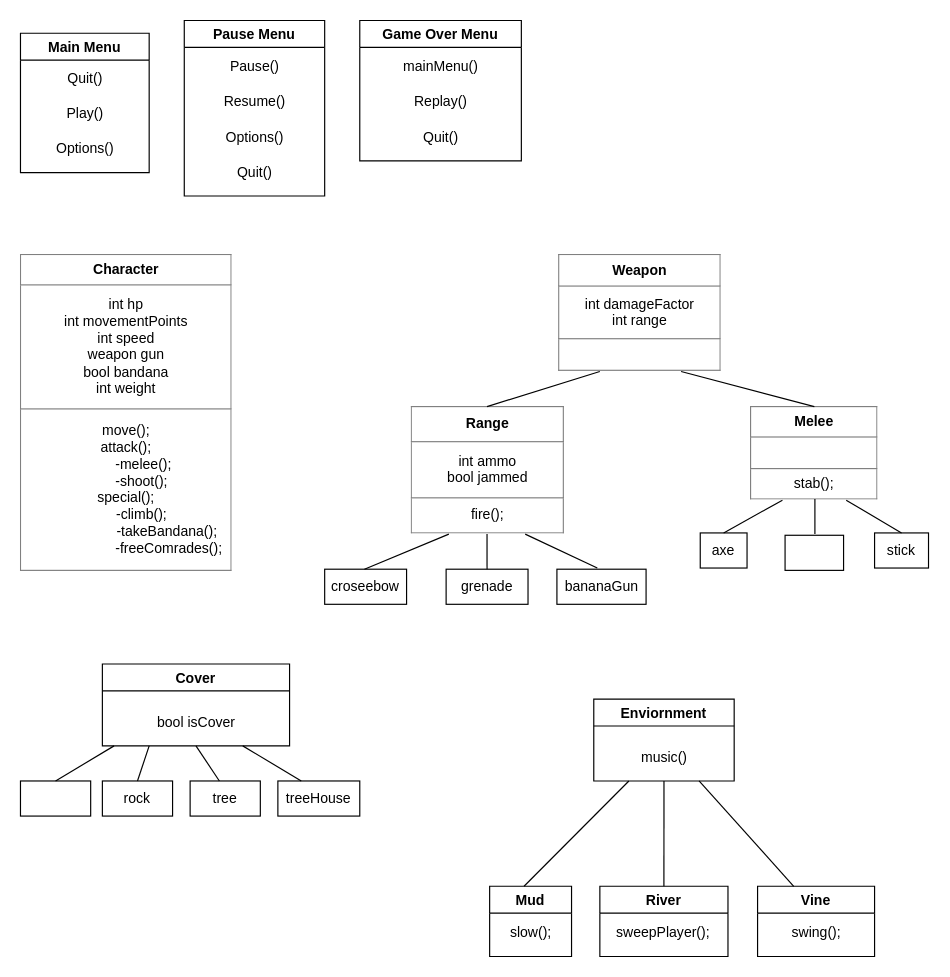
This 950x977 diagram has some shape labels left out. The centre of each missing label's shape, as x and y in pixels:
barrel: point 55,798
knife: point 814,552
